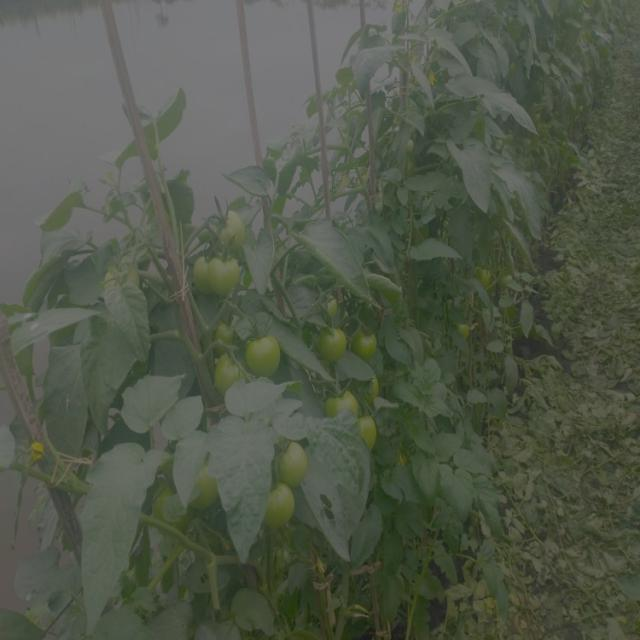tomato: (205, 204, 253, 257), (189, 257, 251, 295), (272, 439, 312, 486), (189, 463, 223, 511), (259, 489, 297, 530), (248, 337, 285, 378), (322, 388, 361, 425), (155, 485, 185, 531), (101, 265, 143, 296), (322, 327, 351, 364), (207, 318, 240, 349), (211, 357, 242, 390), (353, 328, 378, 362), (315, 295, 341, 320), (364, 418, 383, 451), (472, 266, 490, 290), (460, 319, 474, 347), (407, 140, 418, 161), (508, 273, 518, 291)
